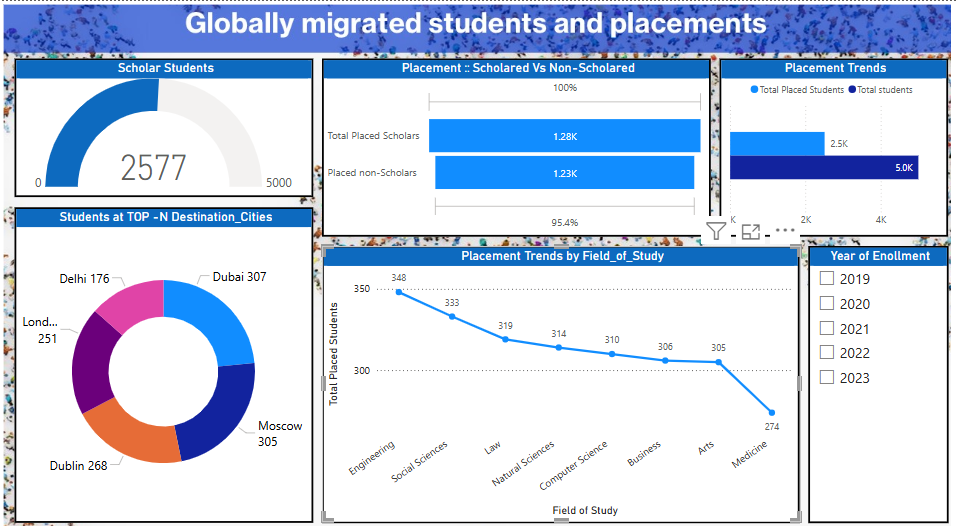

The dashboard page shown, as its layout file describes it:
{"tool":"powerbi","page":{"name":"Page 2","canvas":[1280,720],"ordinal":1},"visuals":[{"type":"image","box":[0,0,1280.3,720.2],"z":0},{"type":"gauge","title":"Scholar Students","fields":{"MaxValue":["global_student_migration.Total students"],"Y":["global_student_migration.Scholar Students"]},"box":[23.2,77,398.6,184.6],"z":1000},{"type":"donutChart","title":"Students at TOP-N Destination_Cities","fields":{"Category":["global_student_migration.destination_city"],"Y":["global_student_migration.Total students"]},"box":[23.2,275.1,398.6,420.7],"z":2000},{"type":"funnel","title":"Placements :: Scholar Vs Non-Scholar","fields":{"Y":["global_student_migration.Total Placed Scholars","global_student_migration.Placed non-Scholars"]},"box":[434.1,77,518.5,237.2],"z":3000},{"type":"clusteredBarChart","title":"Placement Trends","fields":{"Y":["global_student_migration.Total Placed Students","global_student_migration.Total students"]},"box":[963.6,77,304.5,237.2],"z":4000},{"type":"lineChart","title":"Placement Trends by Field_of_Study","fields":{"Category":["global_student_migration.field_of_study"],"Y":["global_student_migration.Total Placed Students"]},"box":[434.1,326.5,637.1,369.3],"z":5000},{"type":"slicer","title":"Year of Enollment","fields":{"Values":["global_student_migration.year_of_enrollment"]},"box":[1081,326.5,187.1,369.3],"z":6000}]}

Visuals, with their boxes in screenshot pixels (x1, y1, x2, y2), scaled from the page's 1280x720 canvas onto the 957x526 screenshot:
image: <bbox>0, 0, 956, 525</bbox>
"Scholar Students" gauge: <bbox>17, 56, 315, 191</bbox>
"Students at TOP-N Destination_Cities" donutChart: <bbox>17, 201, 315, 508</bbox>
"Placements :: Scholar Vs Non-Scholar" funnel: <bbox>325, 56, 712, 230</bbox>
"Placement Trends" clusteredBarChart: <bbox>720, 56, 948, 230</bbox>
"Placement Trends by Field_of_Study" lineChart: <bbox>325, 239, 801, 508</bbox>
"Year of Enollment" slicer: <bbox>808, 239, 948, 508</bbox>
